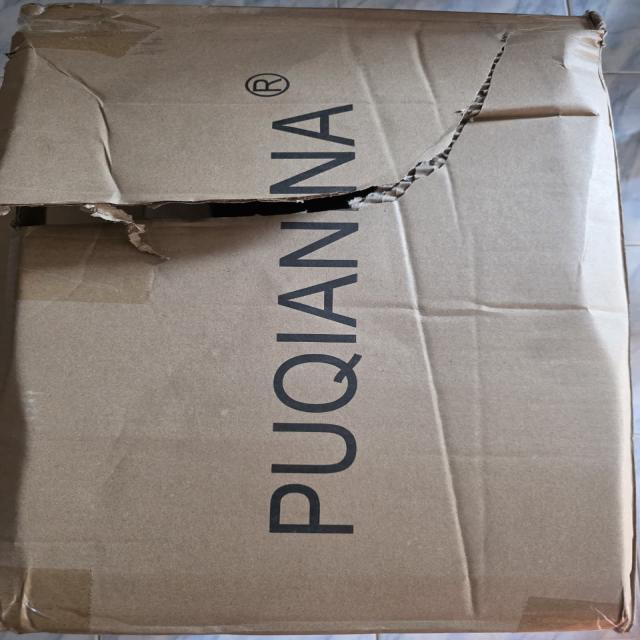carton_box: (11, 3, 640, 629)
package_damage: (15, 0, 533, 256)
